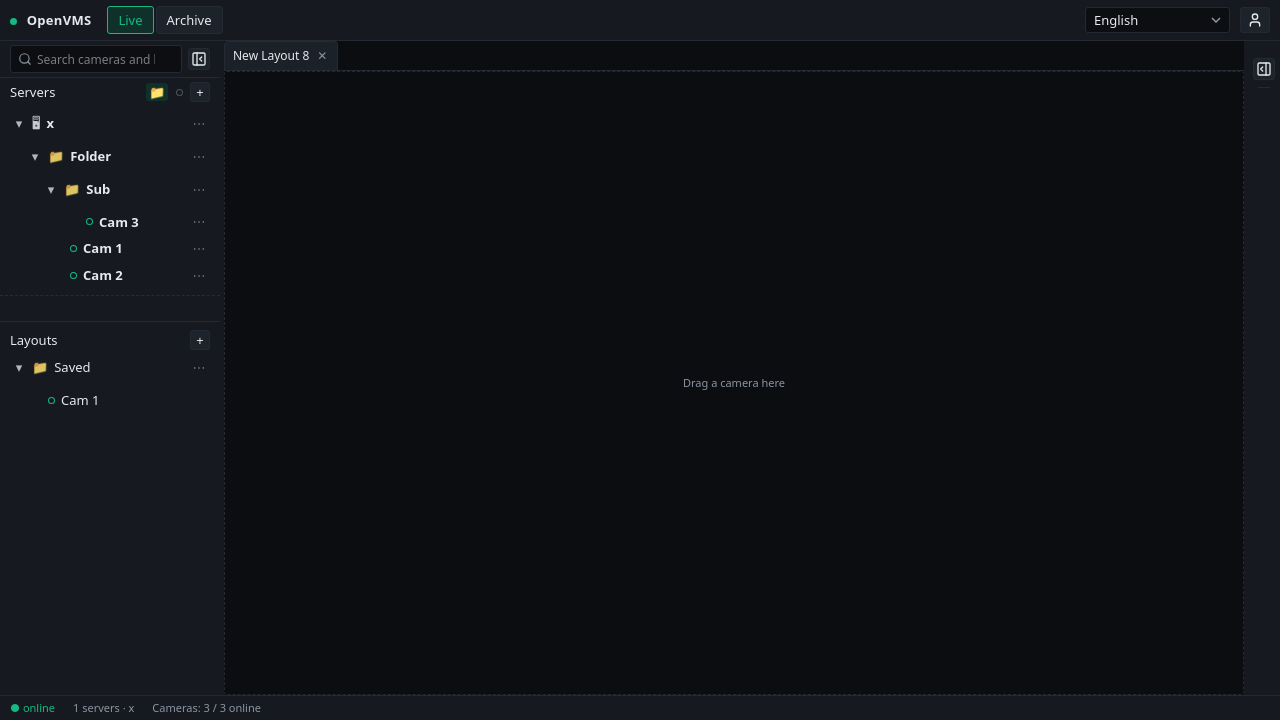
Test: videowall parity on the Archive tab (spec 2026-10-18) › T1: double click on the camera puts the camera on the Archive stage
The image size is (1280, 720).
Expected: the list with class "tree" is shown, [0, 106, 220, 293]
Expected: the text "Cam 1" below "Cam 3" is shown, [83, 239, 123, 257]
Click the button "Archive" at {"x": 189, "y": 20}, box [156, 6, 223, 34]
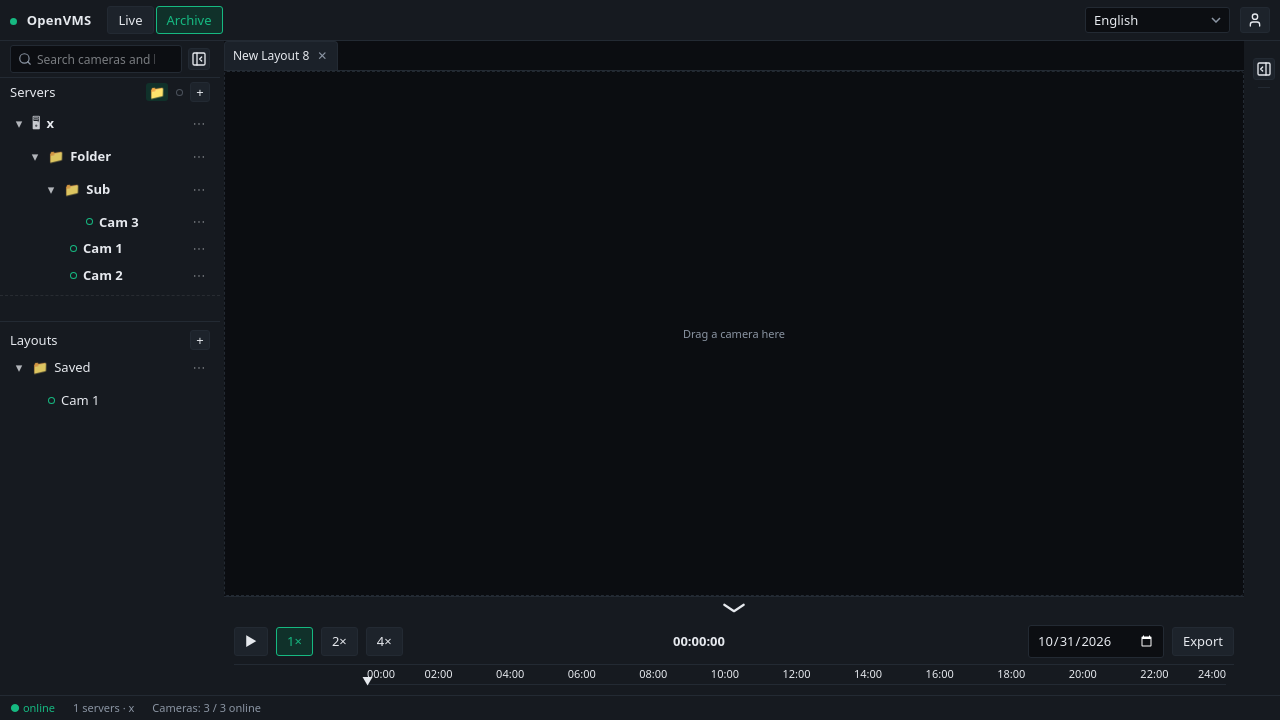
Expected: the element with class "arquivo-stage" is shown
Double-click the text "Cam 1" below "Cam 3" at {"x": 103, "y": 248}, box [83, 239, 123, 257]
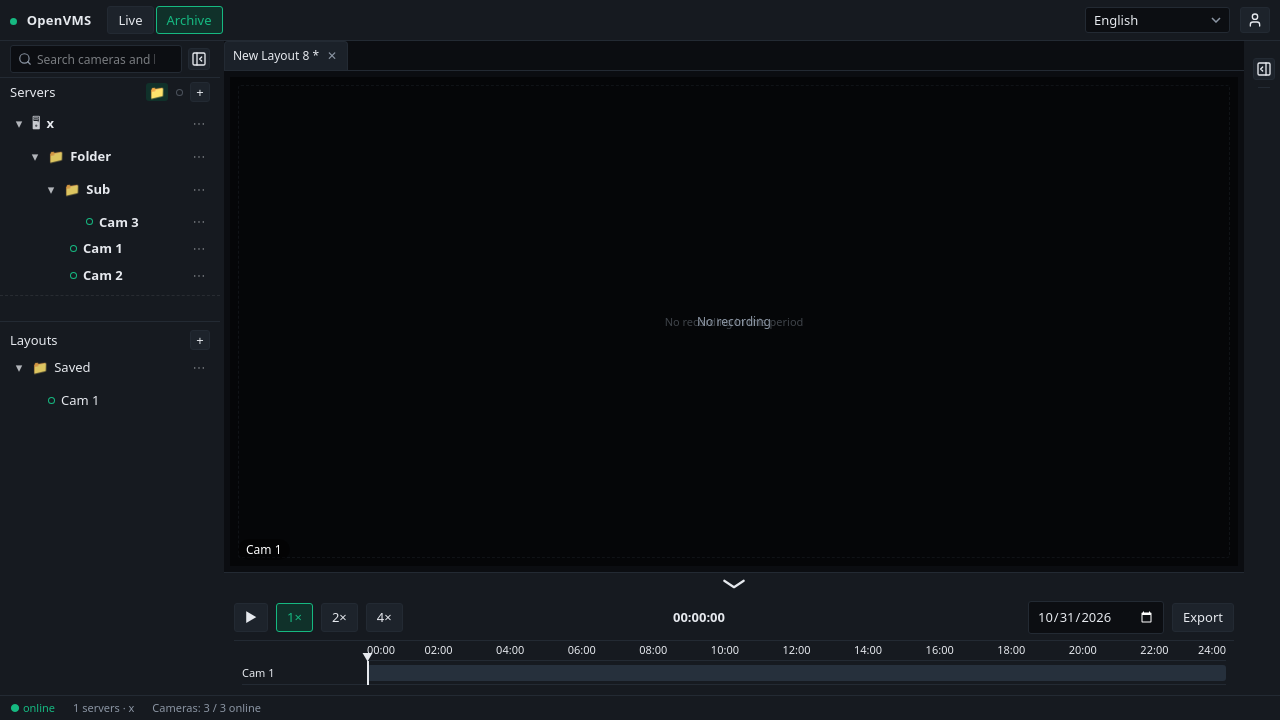
Expected: the number of elements with class "stage-cell" is 1, [230, 77, 1238, 566]
